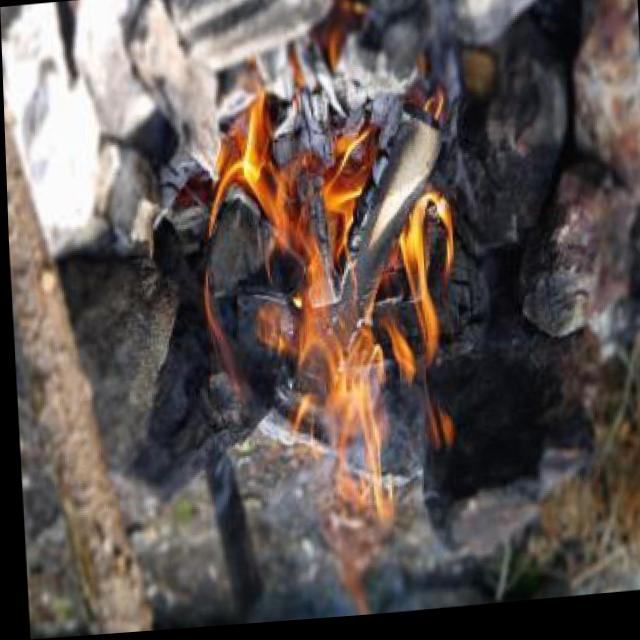Fire: (198, 82, 460, 495)
